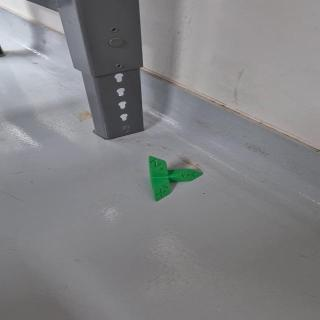eje: (147, 155, 204, 202)
